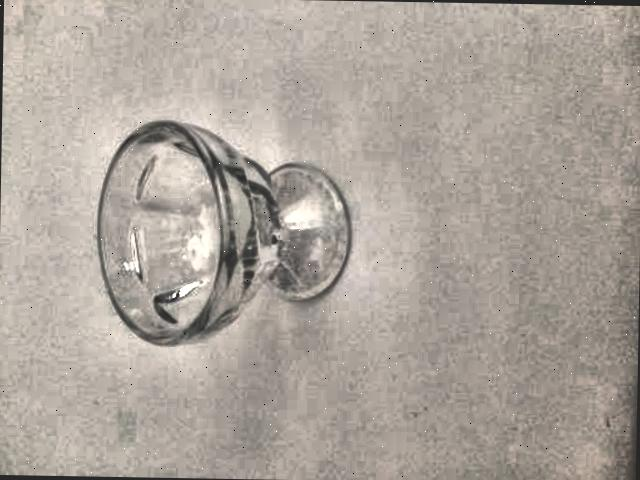Almennt: (86, 102, 370, 354)
